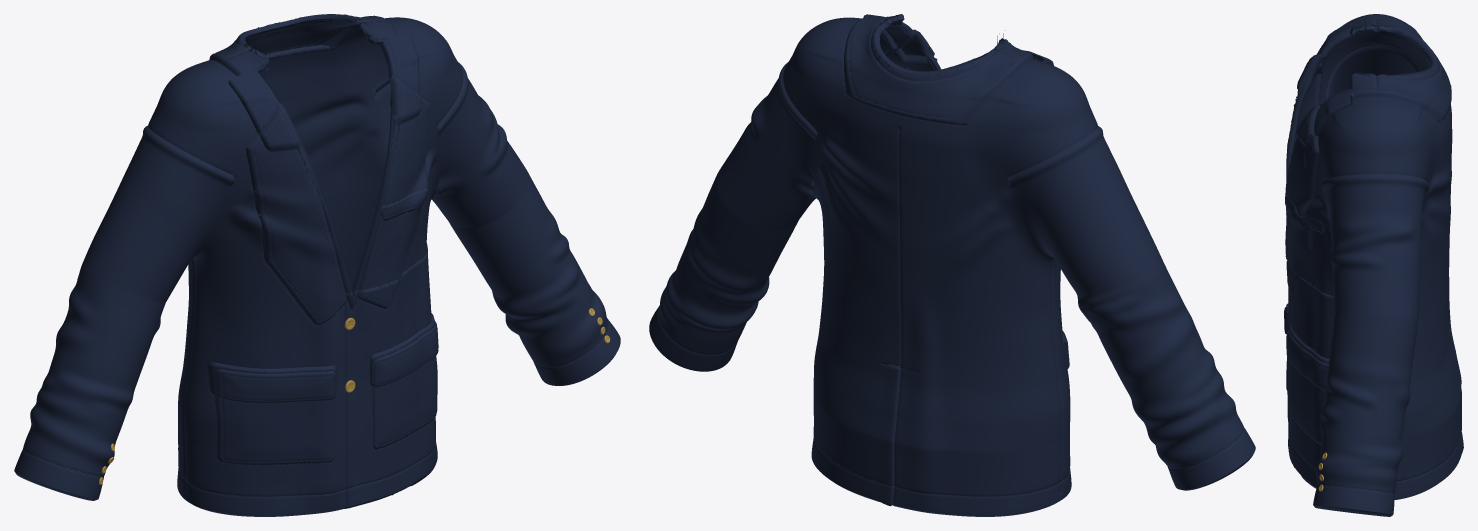
The model's file is 01_americana.glb.
The picture shows the model from 3 angles, left to right: view 1: azimuth 30°, elevation 25°; view 2: azimuth 150°, elevation 25°; view 3: azimuth 270°, elevation 25°; orthographic projection. The views are drawn at different scales.
Parts seen in each view (by area): view 1: body; view 2: body; view 3: body.
Boxes of the visible parts, <box> form: body: <box>14,14,620,516</box>; body: <box>649,14,1255,516</box>; body: <box>1284,14,1463,516</box>.
Size of the model in its own units: 1.04 by 0.7537 by 0.3002.
